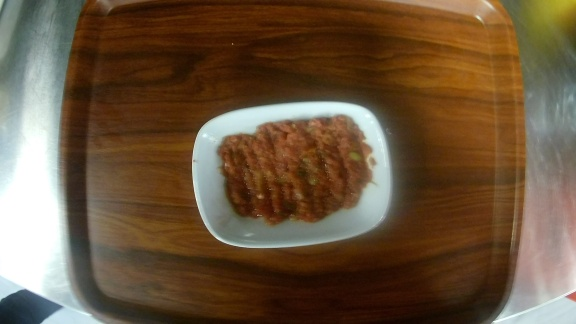acilimeze: (190, 100, 391, 249)
